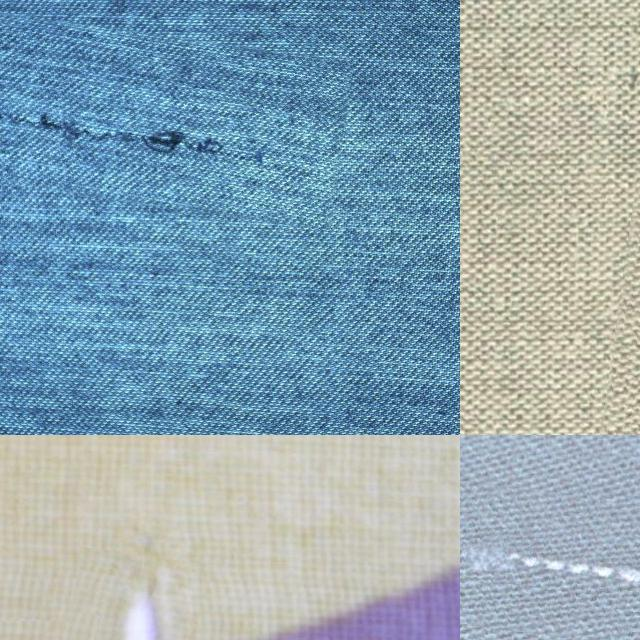Thread_other: (0, 18, 347, 216), (460, 460, 640, 637)
seam: (61, 551, 199, 640)
